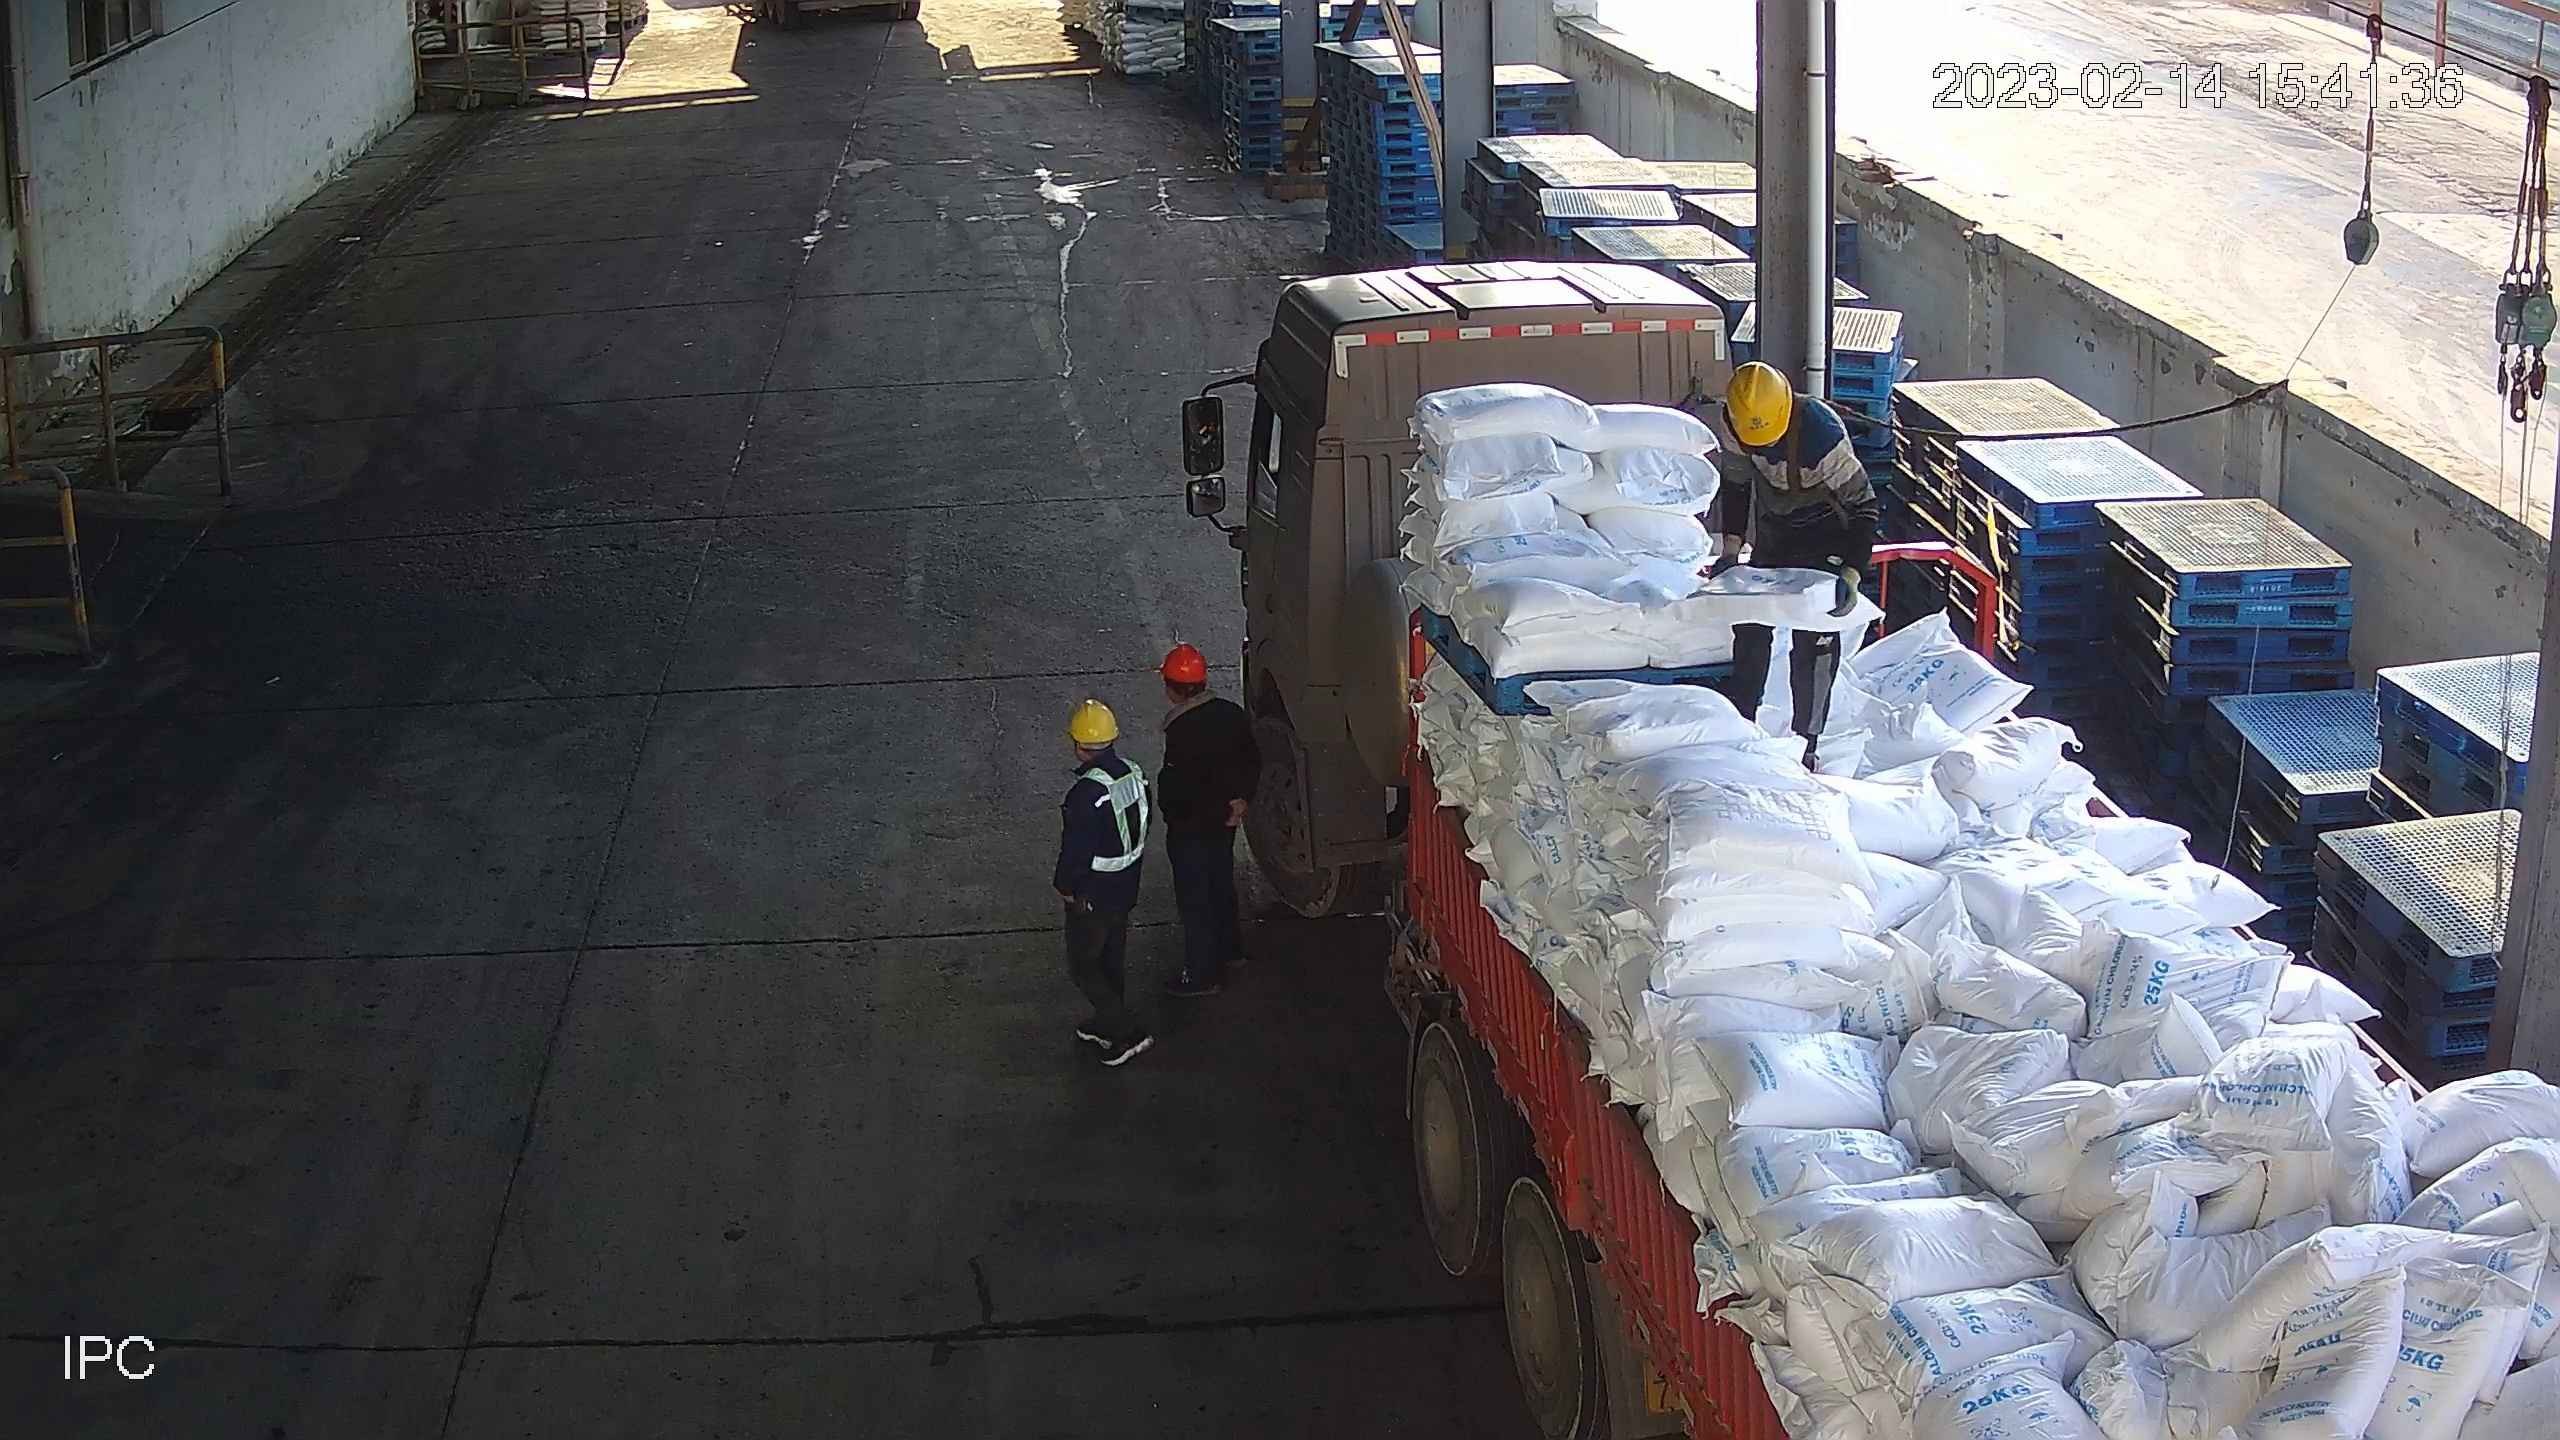belt: (1735, 416, 1809, 508)
head: (1711, 364, 1866, 503), (1040, 699, 1149, 812), (1153, 653, 1257, 764)
helmet: (1716, 368, 1801, 455), (1070, 694, 1116, 750), (1153, 640, 1207, 682)
people: (1703, 362, 1879, 766), (1029, 701, 1162, 1077), (1138, 647, 1272, 994)
truck: (1186, 244, 2560, 1440)
